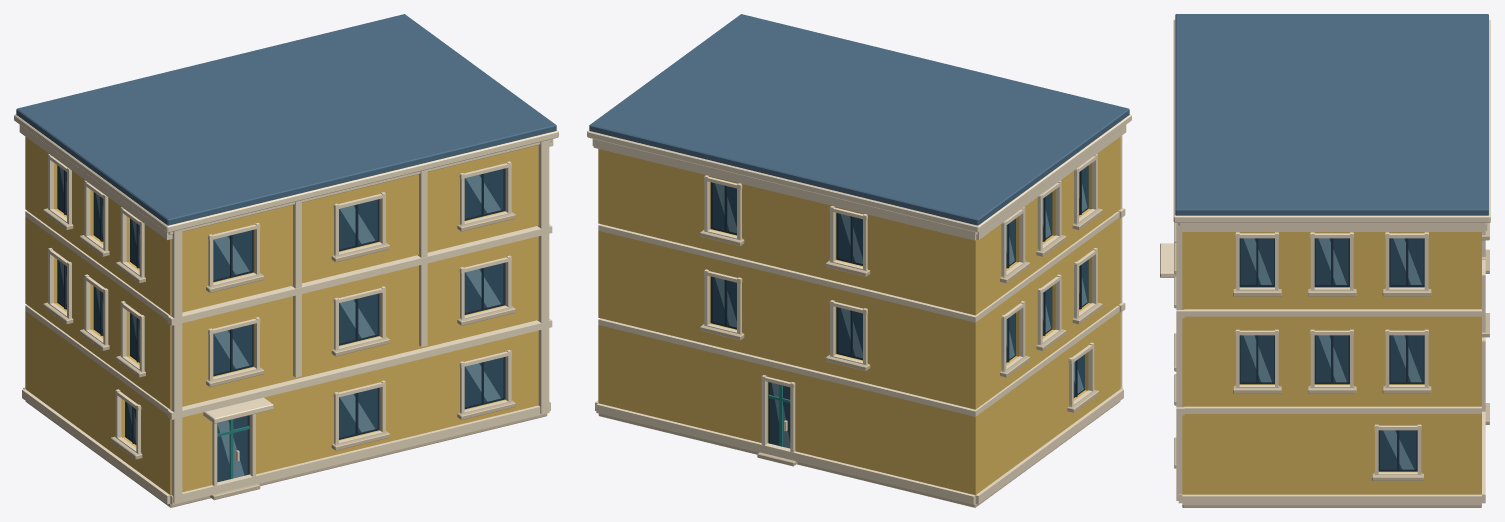
The model's file is simple_city_office.glb.
3 renders of one model, left to right at view 1: azimuth 30°, elevation 25°; view 2: azimuth 150°, elevation 25°; view 3: azimuth 270°, elevation 25°, orthographic. The views are drawn at different scales.
Parts seen in each view (by area): view 1: SimpleCityOffice_StaticMesh; view 2: SimpleCityOffice_StaticMesh; view 3: SimpleCityOffice_StaticMesh.
Part boxes in pixels (left/top/right/bottom): SimpleCityOffice_StaticMesh: left=14, top=14, right=558, bottom=507; SimpleCityOffice_StaticMesh: left=587, top=14, right=1131, bottom=507; SimpleCityOffice_StaticMesh: left=1160, top=14, right=1490, bottom=507.
Bounding box in the file's own units: 13.72 × 9.78 × 9.71.
